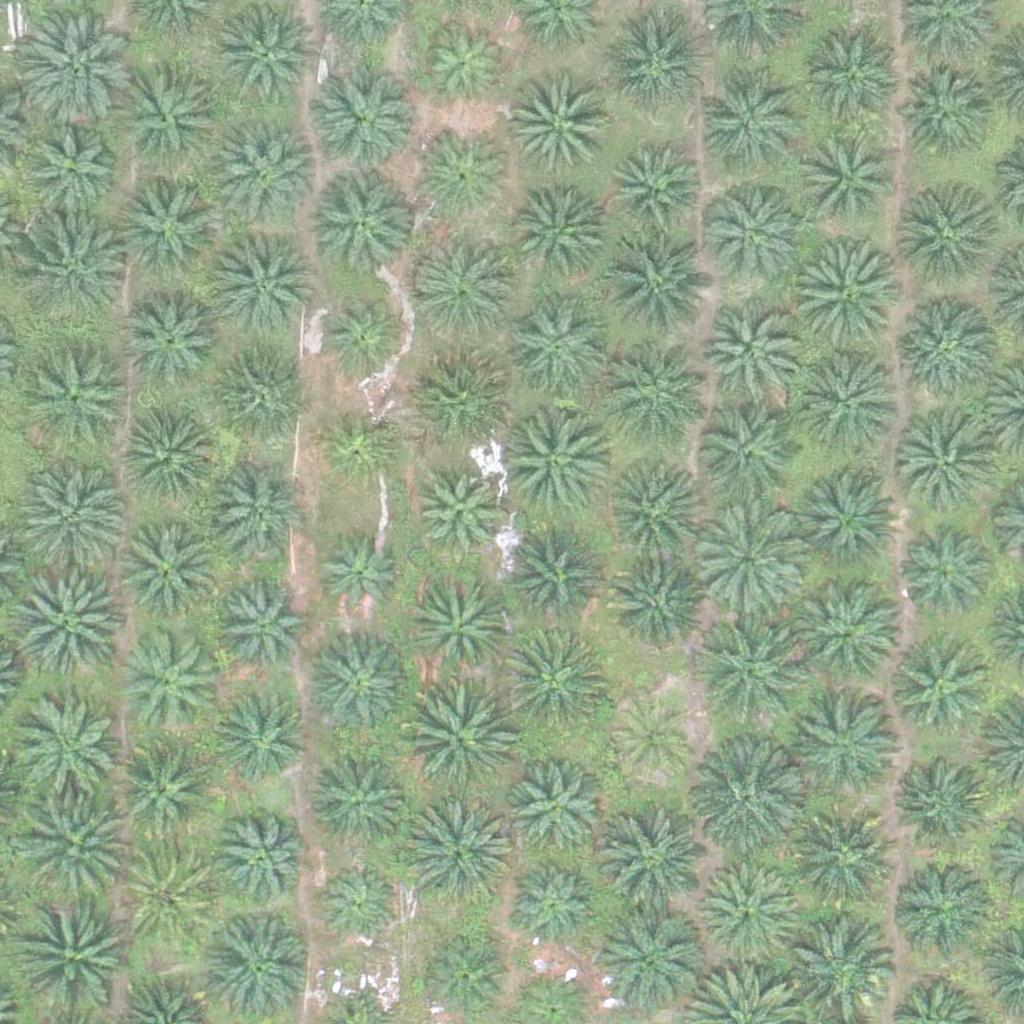Kelapa_Sawit: (16, 213, 129, 327), (20, 349, 133, 463), (690, 617, 803, 731), (16, 789, 129, 903), (15, 16, 128, 129), (13, 461, 126, 574), (113, 62, 226, 175), (491, 403, 604, 516), (790, 241, 903, 354), (783, 910, 896, 1023), (690, 743, 803, 856), (400, 796, 513, 909), (401, 684, 514, 797), (10, 697, 123, 810), (16, 568, 129, 681), (698, 58, 810, 172), (18, 892, 130, 1006), (113, 172, 225, 285), (211, 115, 323, 228), (207, 230, 319, 343), (411, 230, 523, 343), (600, 230, 712, 343), (691, 502, 803, 615), (792, 345, 904, 458), (499, 626, 611, 739), (201, 910, 313, 1023), (597, 809, 709, 922), (592, 902, 704, 1015), (19, 125, 119, 226), (124, 406, 224, 507), (124, 289, 224, 390), (213, 9, 313, 110), (208, 353, 308, 454), (213, 462, 313, 563), (311, 173, 411, 274), (423, 349, 523, 450), (506, 84, 606, 185), (505, 296, 605, 397), (496, 525, 596, 626), (599, 456, 699, 557), (609, 356, 709, 457), (605, 11, 705, 112), (703, 183, 803, 284), (700, 299, 800, 400), (798, 464, 898, 565), (800, 26, 900, 127), (799, 130, 899, 231), (893, 187, 993, 288), (899, 295, 999, 396), (898, 420, 998, 521), (699, 864, 799, 965), (504, 758, 604, 859), (408, 577, 508, 678), (306, 637, 406, 738), (308, 750, 408, 851), (210, 809, 310, 910), (116, 627, 216, 728), (113, 737, 213, 838), (120, 520, 220, 620), (313, 71, 413, 171), (511, 182, 611, 282), (693, 406, 793, 506), (893, 65, 993, 165), (895, 854, 995, 954), (887, 634, 987, 734), (892, 750, 992, 850), (798, 583, 898, 683), (798, 700, 898, 800), (790, 813, 890, 913), (600, 553, 700, 653), (119, 846, 219, 946), (317, 401, 405, 489), (317, 288, 405, 376), (412, 469, 500, 557), (426, 21, 514, 109), (609, 696, 697, 784), (313, 863, 401, 951), (216, 695, 304, 783), (215, 586, 303, 674), (510, 861, 597, 950), (312, 533, 399, 621), (421, 132, 508, 220), (610, 141, 697, 229), (901, 529, 988, 617), (419, 935, 506, 1023)
